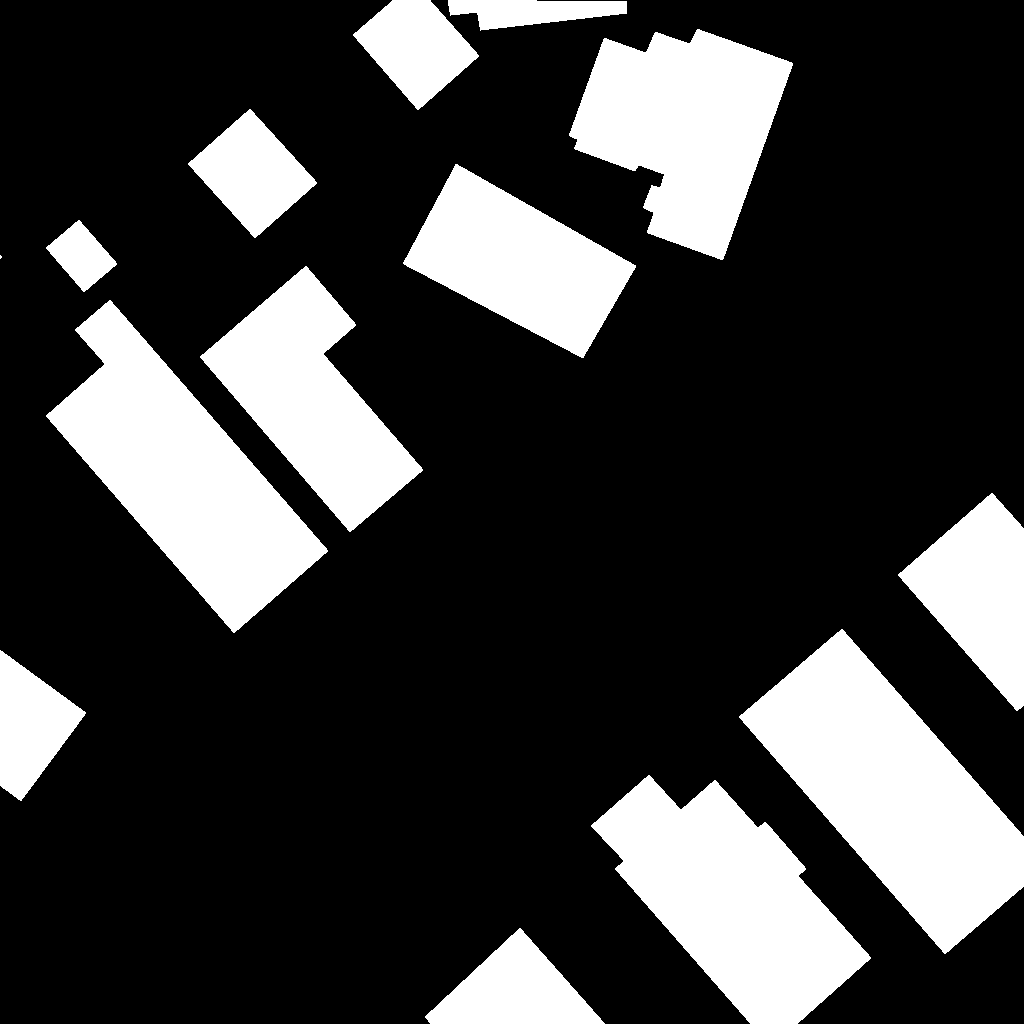building: (46, 300, 329, 634), (739, 629, 1024, 955), (591, 775, 872, 1024), (200, 266, 424, 533), (569, 29, 794, 261), (403, 164, 637, 359), (898, 493, 1024, 712), (425, 928, 606, 1024), (188, 109, 318, 239), (353, 0, 480, 111), (0, 650, 87, 802), (448, 0, 628, 31), (46, 220, 118, 293), (0, 255, 3, 260)
